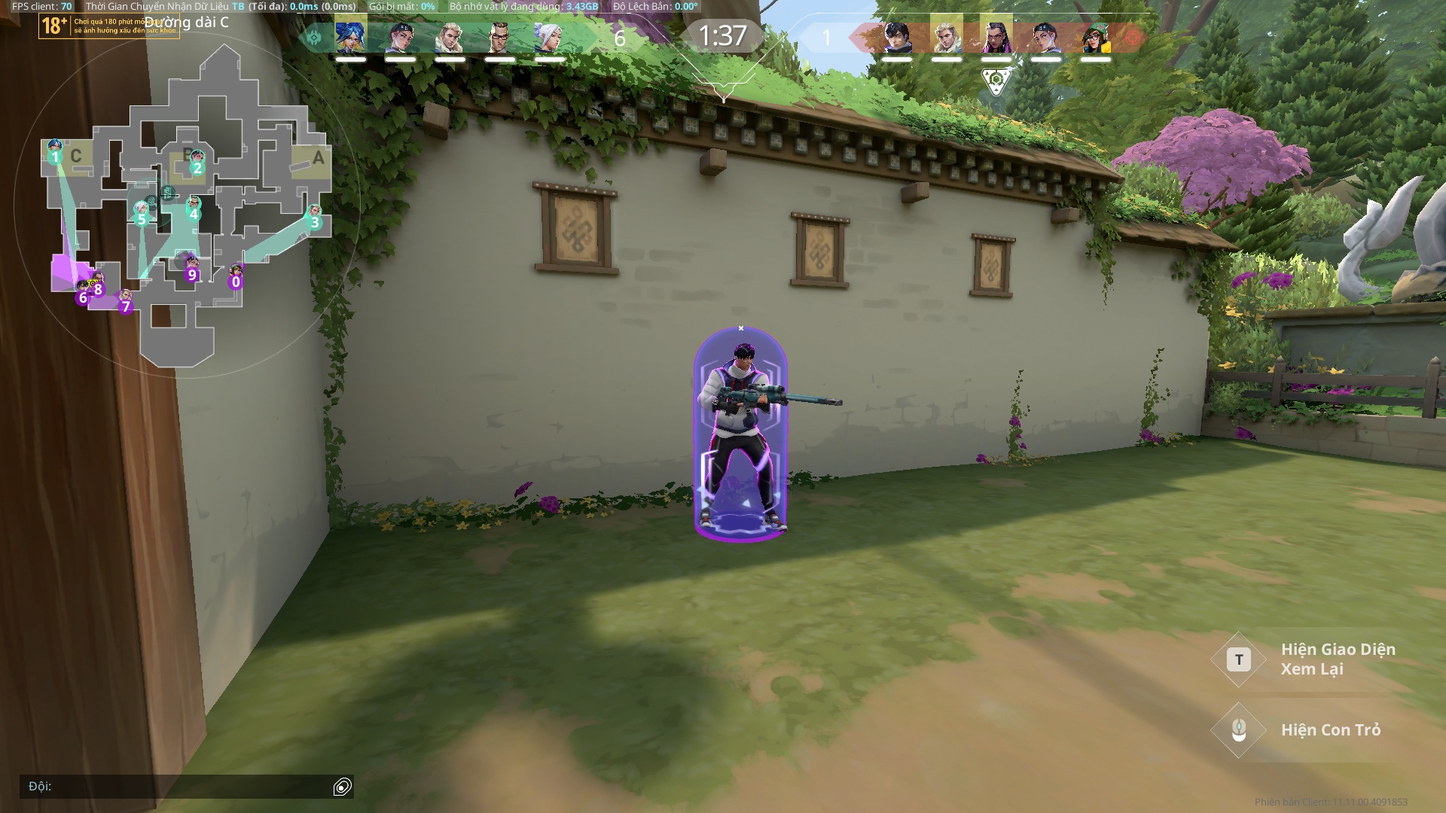body: (708, 362, 768, 422)
head: (734, 343, 755, 368)
